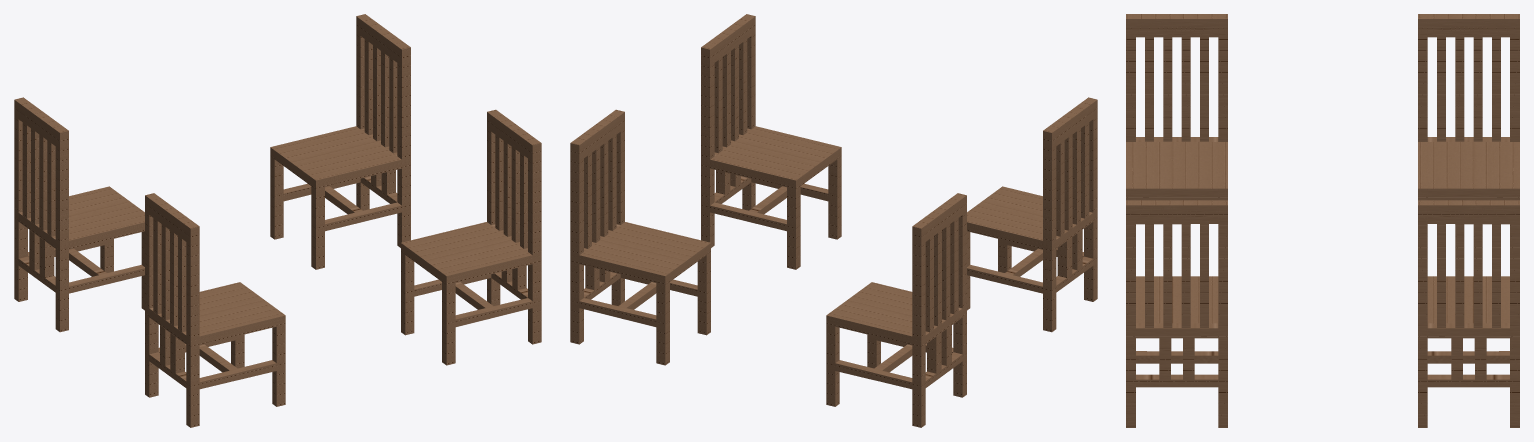
File: Kursi 1.fbx
The picture shows the model from 3 angles, left to right: view 1: azimuth 30°, elevation 25°; view 2: azimuth 150°, elevation 25°; view 3: azimuth 270°, elevation 25°; orthographic projection. The views are drawn at different scales.
Parts seen in each view (by area): view 1: Kursi; view 2: Kursi; view 3: Kursi.
Part boxes in pixels (x1,y1,x2,y2): Kursi: (14,14,541,427); Kursi: (570,14,1097,427); Kursi: (1126,14,1519,427).
Size of the model in its own units: 738 by 400 by 642.
